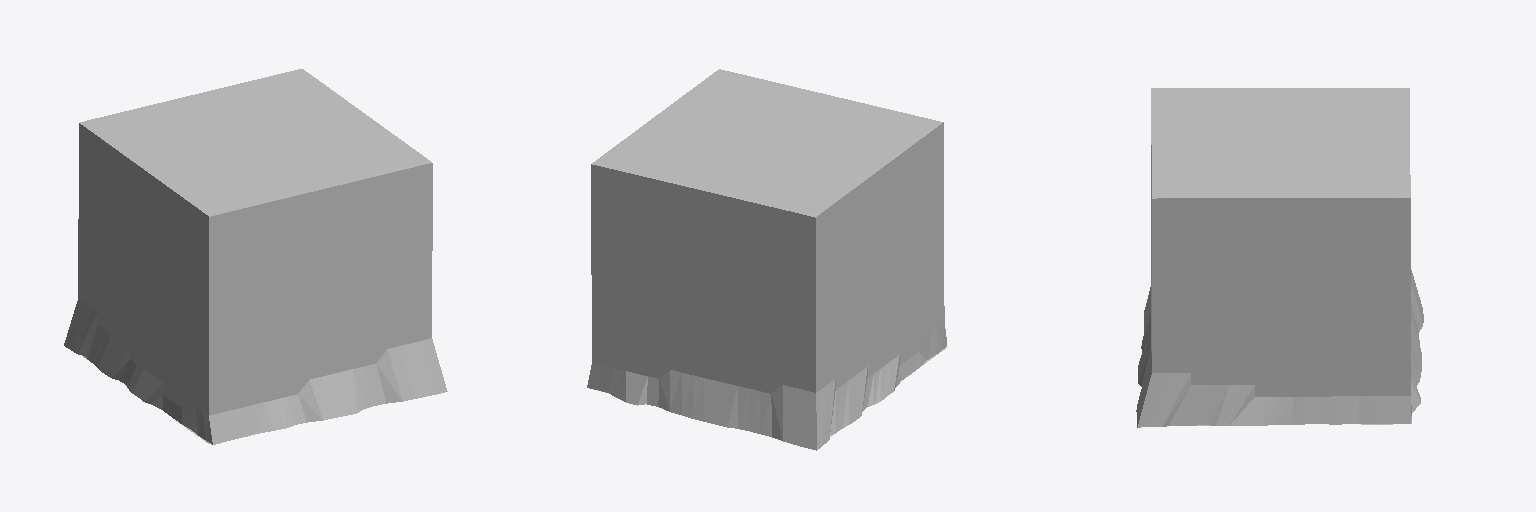
The model's file is mod0218.obj.
3 views of the same model, side by side, from view 1: azimuth 30°, elevation 25°; view 2: azimuth 150°, elevation 25°; view 3: azimuth 270°, elevation 25° (orthographic).
Visible parts, largest first — view 1: Box001; view 2: Box001; view 3: Box001.
Boxes of the visible parts, <box> form: Box001: <box>64,69,447,444</box>; Box001: <box>587,69,946,450</box>; Box001: <box>1136,88,1423,427</box>.
Bounding box in the file's own units: 0.5799 × 0.522 × 0.5979.